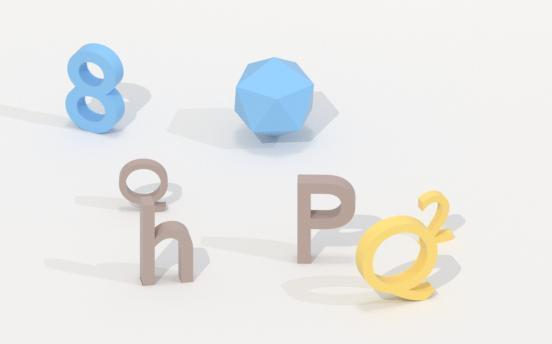chu_khoi: (119, 159, 193, 284), (356, 216, 436, 300), (297, 175, 355, 263), (140, 198, 193, 284)
da_giac: (235, 58, 311, 135)
so_khoi: (65, 43, 124, 133)
